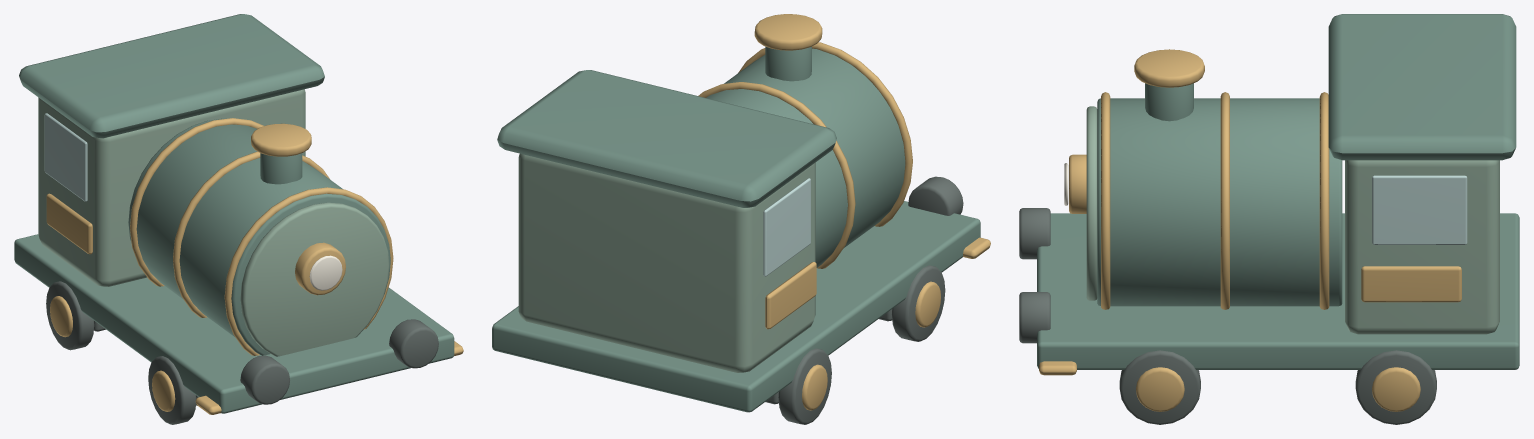
Rendered from Locomotive.fbx.
The picture shows the model from 3 angles, left to right: view 1: azimuth 30°, elevation 25°; view 2: azimuth 150°, elevation 25°; view 3: azimuth 270°, elevation 25°; orthographic projection. The views are drawn at different scales.
Visible parts, largest first — view 1: Seaweed.001, Enamel.001, Brass.001, Iron.001, Glass.001, Linen.001; view 2: Seaweed.001, Enamel.001, Brass.001, Iron.001, Glass.001; view 3: Seaweed.001, Enamel.001, Brass.001, Iron.001, Glass.001.
Boxes of the visible parts, x1,y1,x2,y2 form: Seaweed.001: (14, 14, 454, 413); Enamel.001: (38, 89, 389, 356); Brass.001: (46, 118, 463, 414); Iron.001: (46, 281, 438, 424); Glass.001: (44, 113, 87, 201); Linen.001: (309, 255, 342, 290); Seaweed.001: (492, 46, 980, 412); Enamel.001: (518, 153, 815, 372); Brass.001: (698, 14, 990, 410); Iron.001: (765, 176, 963, 424); Glass.001: (763, 178, 810, 276); Seaweed.001: (1037, 14, 1519, 369); Enamel.001: (1086, 106, 1499, 334); Brass.001: (1039, 49, 1461, 411); Iron.001: (1019, 208, 1436, 424); Glass.001: (1372, 175, 1467, 244).
Bounding box in the file's own units: 250 × 240 × 368.
